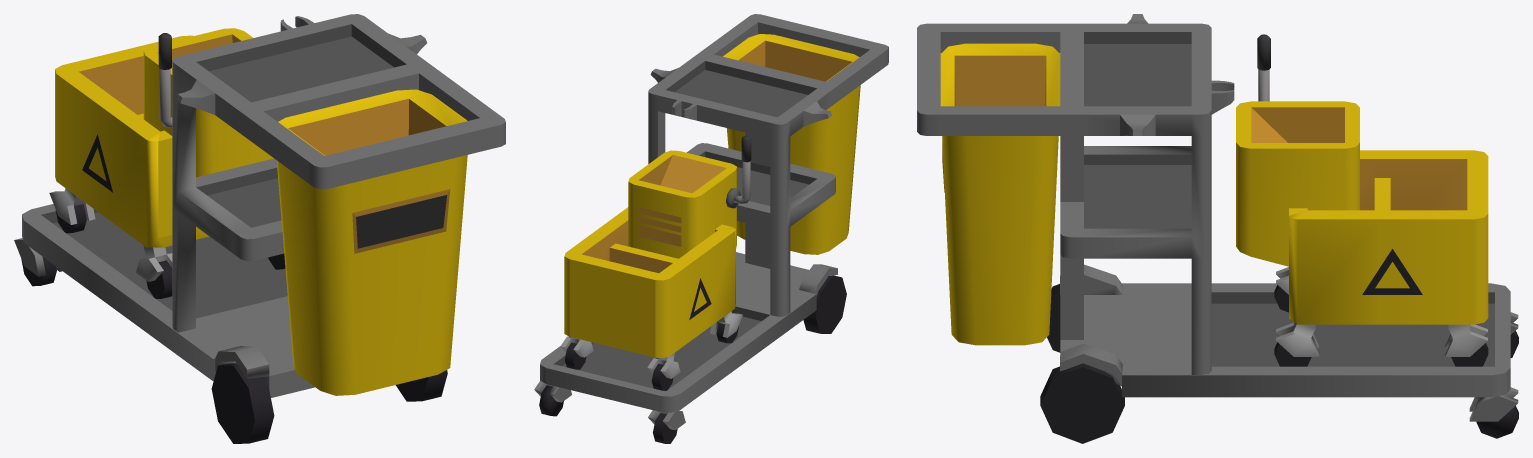
The model's file is JanitorialCart.fbx.
3 renders of one model, left to right at view 1: azimuth 30°, elevation 25°; view 2: azimuth 150°, elevation 25°; view 3: azimuth 270°, elevation 25°, orthographic. The views are drawn at different scales.
Parts seen in each view (by area): view 1: JanitorialCart, MopBucket; view 2: JanitorialCart, MopBucket; view 3: JanitorialCart, MopBucket.
Part boxes in pixels (x1=…): JanitorialCart: x1=14, y1=14, x2=505, y2=443; MopBucket: x1=49, y1=28, x2=285, y2=298; JanitorialCart: x1=534, y1=14, x2=888, y2=443; MopBucket: x1=560, y1=135, x2=751, y2=390; JanitorialCart: x1=917, y1=14, x2=1518, y2=443; MopBucket: x1=1236, y1=34, x2=1488, y2=366.
Size of the model in its own units: 0.8243 by 1.07 by 1.78.
